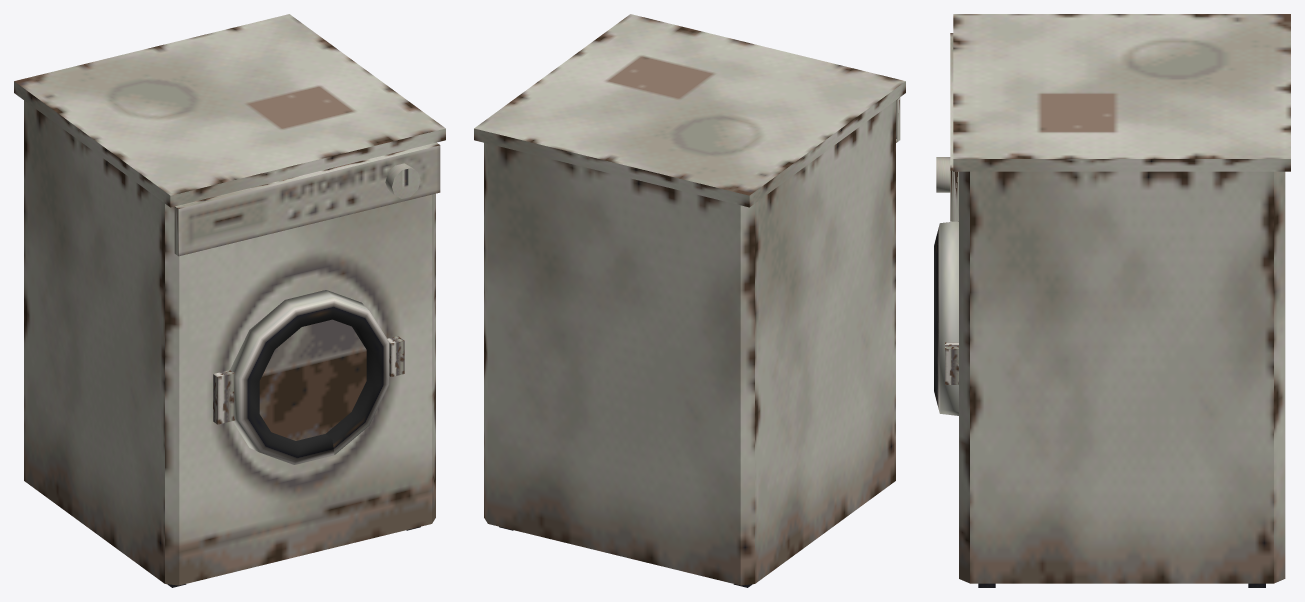
File: washing_machine.obj
3 views of the same model, side by side, from view 1: azimuth 30°, elevation 25°; view 2: azimuth 150°, elevation 25°; view 3: azimuth 270°, elevation 25° (orthographic). The views are drawn at different scales.
Parts seen in each view (by area): view 1: washing_machine; view 2: washing_machine; view 3: washing_machine.
Boxes of the visible parts, left/top/right/bottom form: washing_machine: left=14, top=14, right=445, bottom=587; washing_machine: left=474, top=14, right=905, bottom=587; washing_machine: left=934, top=14, right=1290, bottom=587.
Bounding box in the file's own units: 0.61 × 0.855 × 0.634.
1 material, 1 textured.
